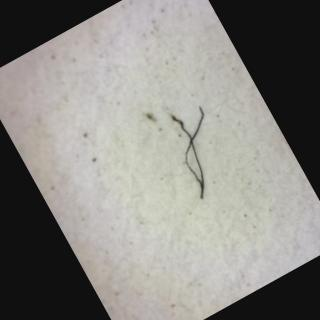Microplastic: (134, 78, 252, 214)
